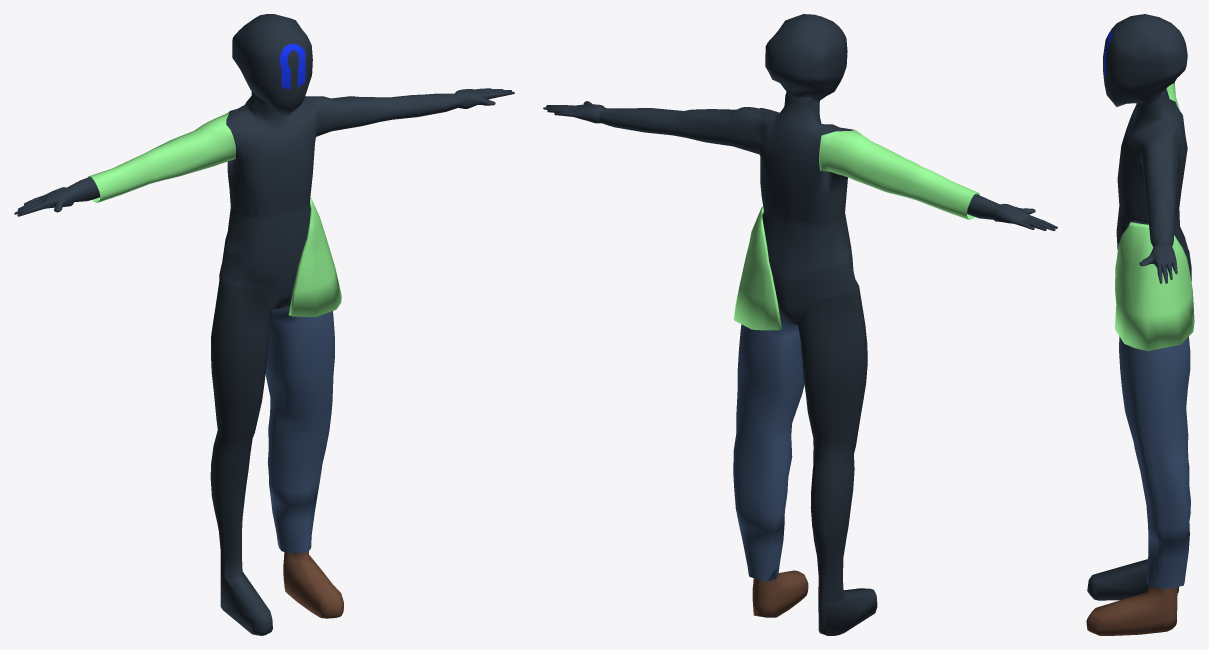
File: enemy_Sword.obj
3 views of the same model, side by side, from view 1: azimuth 30°, elevation 25°; view 2: azimuth 150°, elevation 25°; view 3: azimuth 270°, elevation 25° (orthographic).
Visible parts, largest first — view 1: Cube.000_Cube.001; view 2: Cube.000_Cube.001; view 3: Cube.000_Cube.001.
Part boxes in pixels (left/top/right/bottom): Cube.000_Cube.001: left=14, top=14, right=514, bottom=635; Cube.000_Cube.001: left=543, top=14, right=1057, bottom=635; Cube.000_Cube.001: left=1086, top=14, right=1194, bottom=635.
Size of the model in its own units: 3.5 by 3.95 by 0.6486.
1 material, 1 textured.
